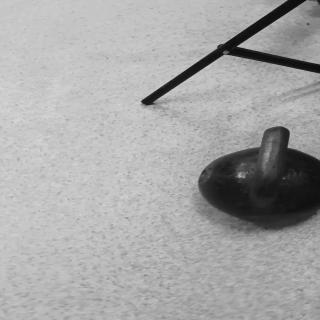girya: (199, 128, 320, 219)
